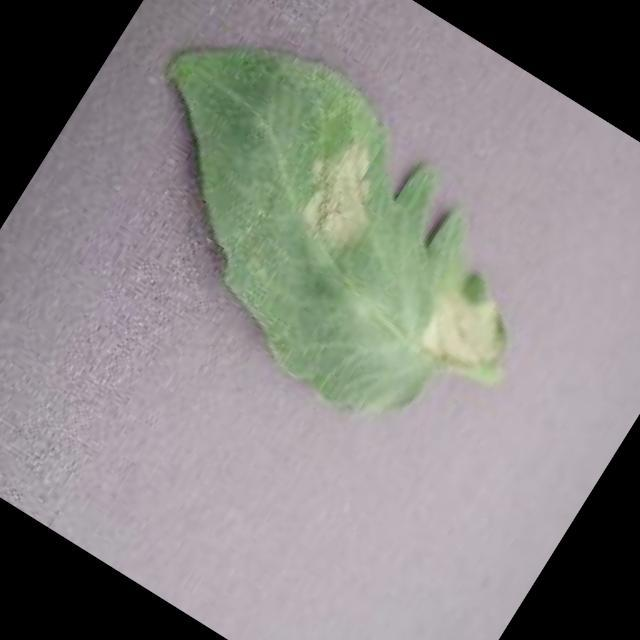Tomato late blight leaf: (57, 0, 584, 469)
